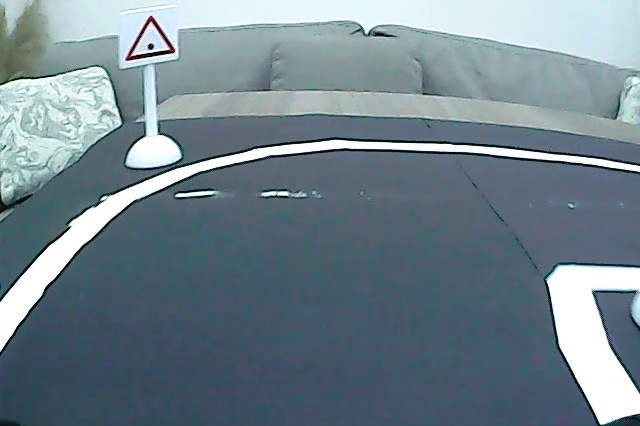green light: (124, 11, 178, 63)
